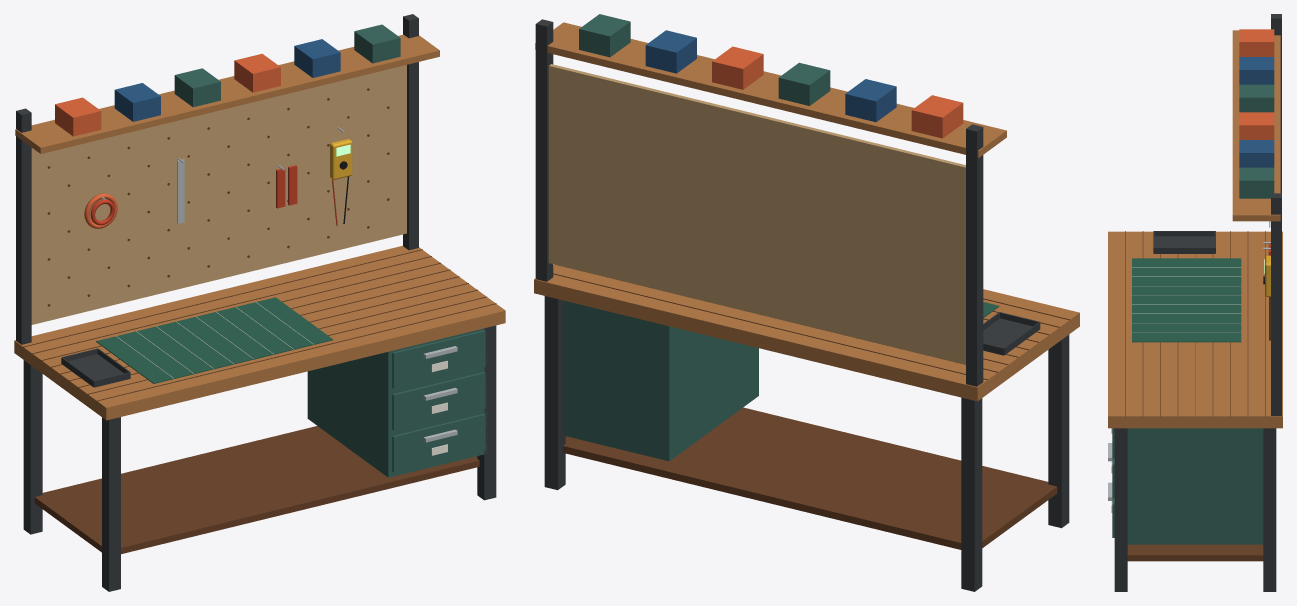
Rendered from repair-desk.glb.
The picture shows the model from 3 angles, left to right: view 1: azimuth 30°, elevation 25°; view 2: azimuth 150°, elevation 25°; view 3: azimuth 270°, elevation 25°; orthographic projection. The views are drawn at different scales.
Visible parts, largest first — view 1: pegboard, wood, woodDark, tealPaint, steelDark, cuttingMat, orangePlastic, batteryBlue, steel, redPlastic, meterYellow; view 2: pegboard, woodDark, wood, tealPaint, steelDark, orangePlastic, batteryBlue; view 3: wood, tealPaint, cuttingMat, steelDark, woodDark, orangePlastic, batteryBlue, cream, meterYellow.
Part boxes in pixels (box(x1,y1,x2,y2)): pegboard: box(31, 65, 406, 324); wood: box(14, 34, 505, 420); woodDark: box(23, 88, 496, 554); tealPaint: box(174, 24, 487, 477); steelDark: box(16, 14, 496, 591); cuttingMat: box(96, 297, 333, 383); orangePlastic: box(55, 53, 280, 228); batteryBlue: box(114, 39, 340, 121); steel: box(98, 127, 457, 442); redPlastic: box(90, 165, 337, 225); meterYellow: box(330, 139, 352, 179); pegboard: box(548, 64, 965, 364); woodDark: box(553, 267, 1069, 549); wood: box(534, 22, 1079, 401); tealPaint: box(563, 14, 830, 461); steelDark: box(535, 19, 1069, 591); orangePlastic: box(712, 46, 963, 138); batteryBlue: box(645, 30, 896, 122); wood: box(1108, 30, 1282, 428); tealPaint: box(1112, 84, 1274, 544); cuttingMat: box(1132, 258, 1241, 342); steelDark: box(1114, 14, 1281, 591); woodDark: box(1125, 231, 1265, 561); orangePlastic: box(1239, 29, 1274, 139); batteryBlue: box(1239, 57, 1274, 167); cream: box(1132, 267, 1240, 332); meterYellow: box(1265, 255, 1270, 296).
Bounding box in the file's own units: 2 × 2.01 × 0.8.
